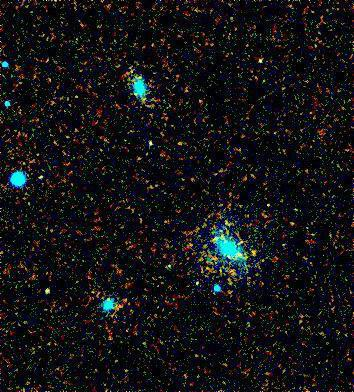star: (238, 237, 268, 267)
